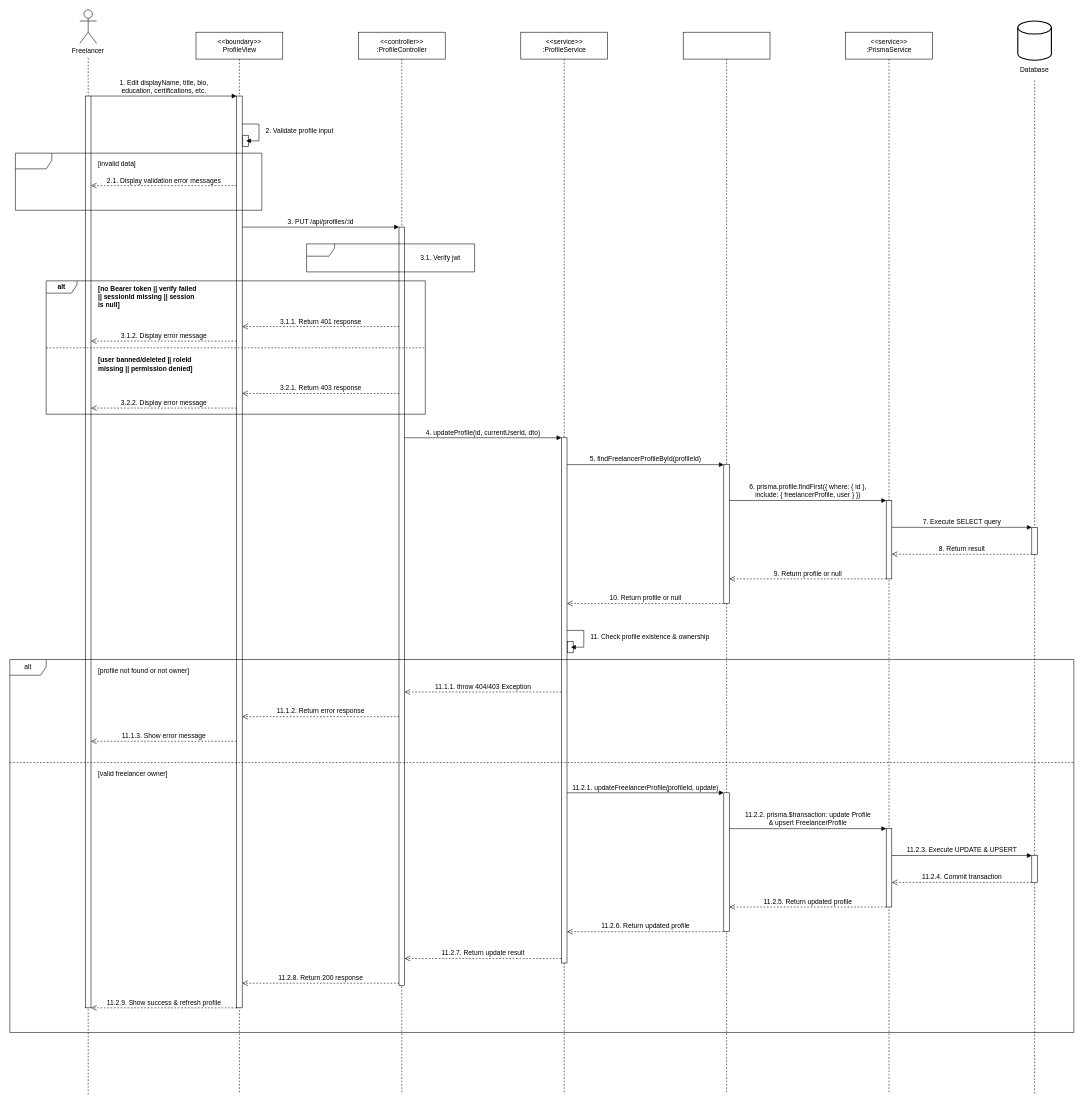
Some shapes in this 1084 by 1105 pixel diagram are drawn without their labels. The shapes that lost their labels are listed below. From the top down, each one's box as (x1, y1, x2, y2) in pixels, then its label:
(15, 153, 262, 210): opt
(306, 243, 475, 272): ref
(683, 32, 770, 1094): <<repository>> :ProfileRepository
